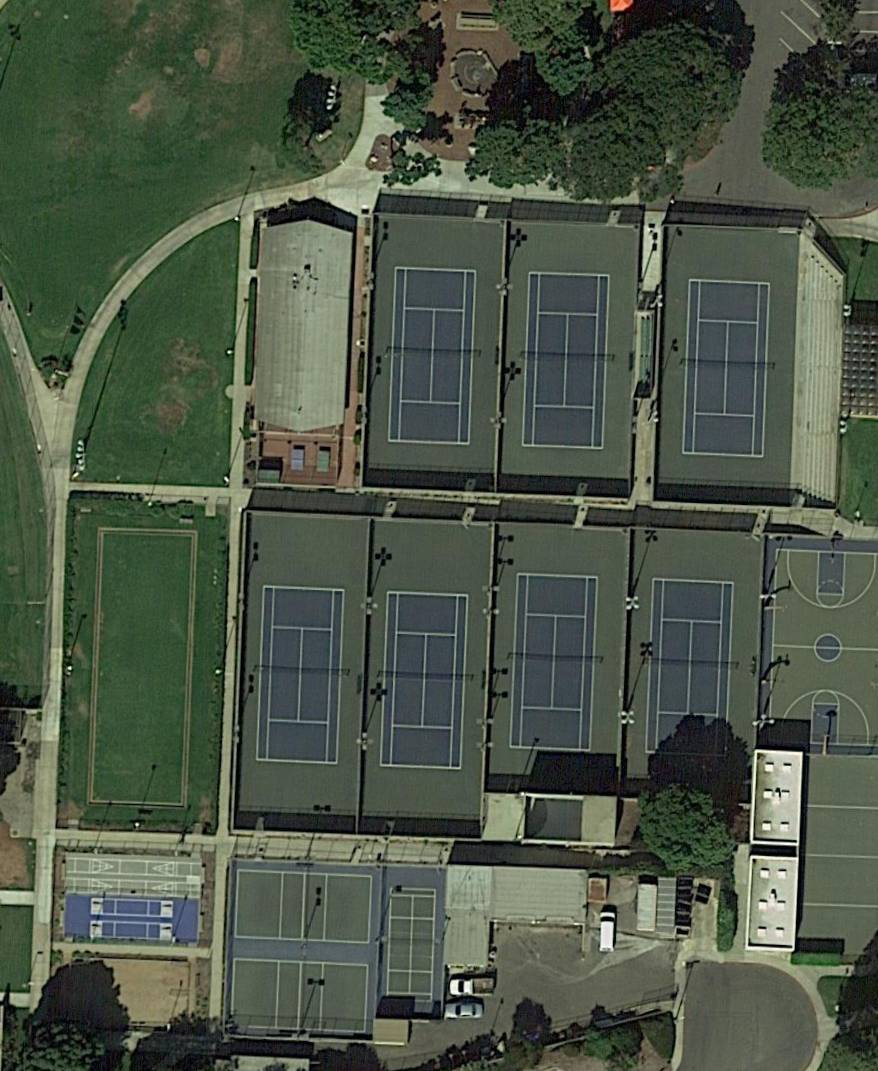basketball court: (771, 549, 878, 747)
large vehicle: (449, 976, 495, 998), (598, 912, 618, 955)
small vehicle: (443, 1001, 487, 1020)
tennis court: (387, 267, 477, 445), (379, 592, 470, 768), (645, 579, 735, 756), (256, 587, 346, 763), (510, 574, 599, 751), (682, 280, 770, 457), (523, 273, 611, 450)
